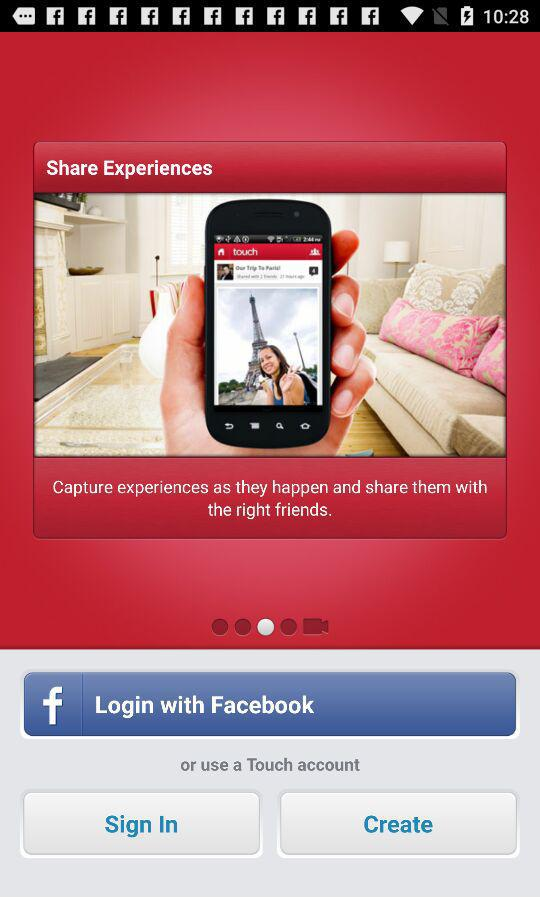Image: (34, 193, 506, 457)
PageIndicator: (211, 617, 330, 637)
Text: (53, 480, 488, 520), (47, 160, 214, 180), (181, 757, 366, 772)
TextButton: (24, 672, 516, 737), (24, 792, 261, 855), (280, 792, 517, 855)
UpperTaskBar: (1, 1, 540, 33)
